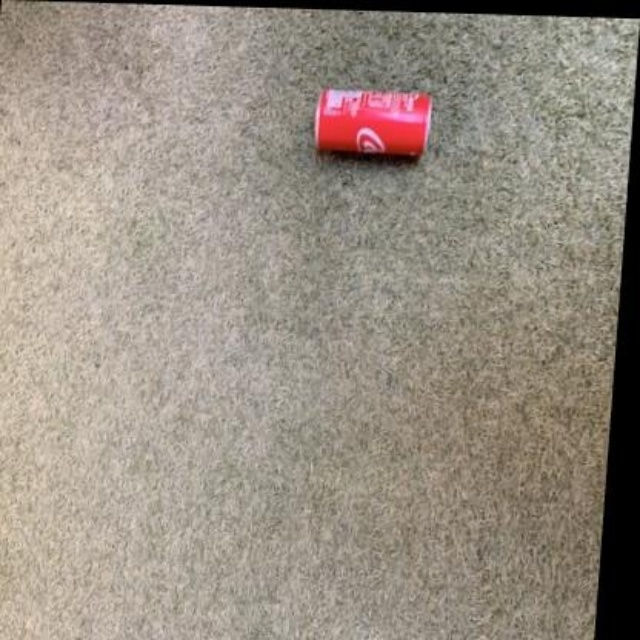trash: (315, 88, 431, 155)
